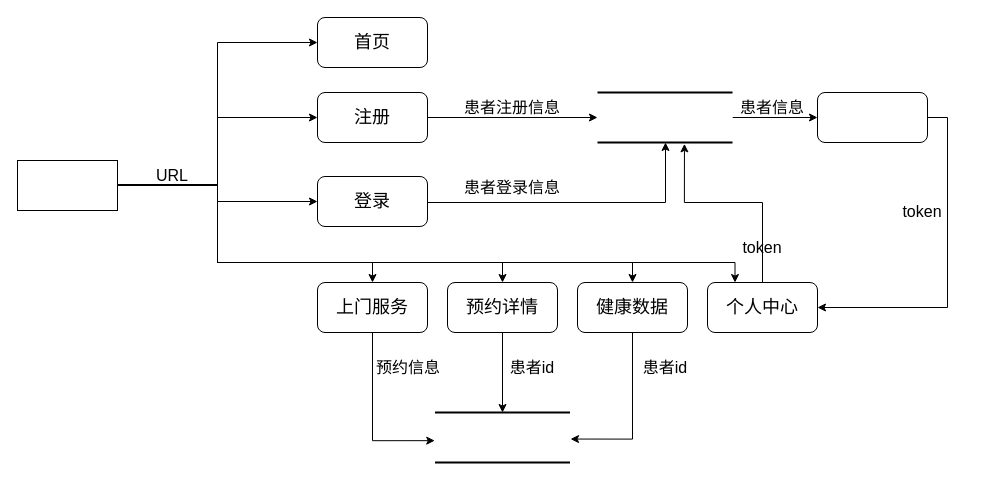
Image size: 995x481. Some labels were removed from this diagram. Each missing label, with the centre of its shape:
"Appointment表" belongs at point (502, 437).
"patient表" belongs at point (664, 117).
"患者" belongs at point (67, 185).
"生成Token" belongs at point (872, 117).
